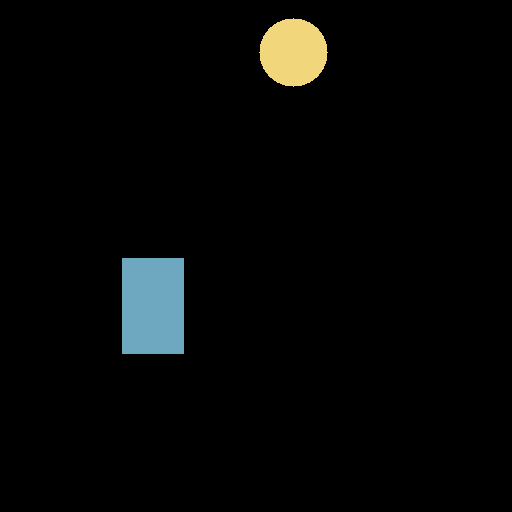circle: (259, 18, 327, 86)
rectangle: (122, 258, 183, 353)
